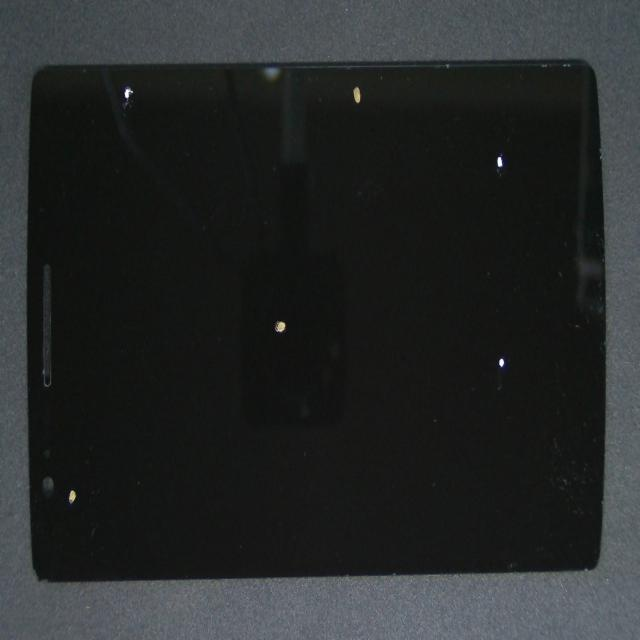stain: (258, 124, 640, 516), (145, 118, 411, 451), (208, 121, 640, 281), (180, 0, 520, 121), (55, 224, 112, 640), (7, 54, 184, 167)
